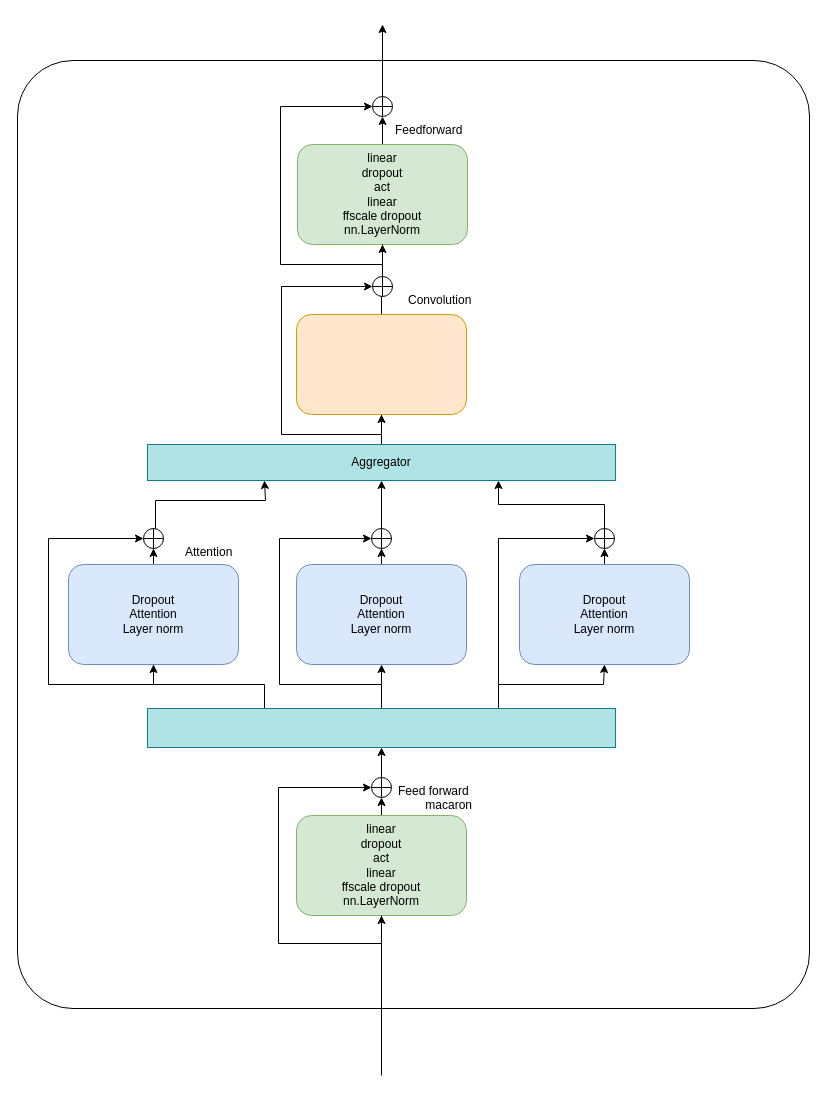
This 827x1101 diagram has some shape labels left out. Here are the shapes that lost their labels. From the top down, the box of each, then its label:
(296, 314, 466, 414): Dropout Convolution Layer norm
(146, 708, 616, 748): Router
